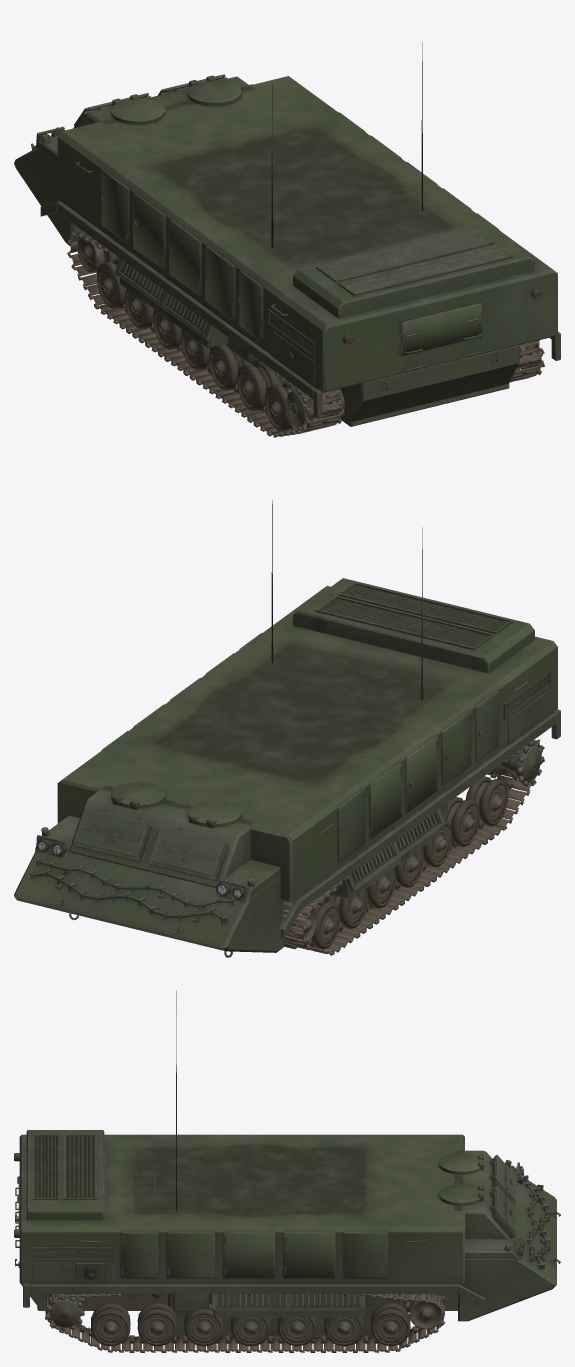
Rendered from torm2_lo.glb.
3 views of the same model, one above another, from view 1: azimuth 30°, elevation 25°; view 2: azimuth 150°, elevation 25°; view 3: azimuth 270°, elevation 25° (orthographic). The views are drawn at different scales.
Parts seen in each view (by area): view 1: body|TM_H, body|TM_R, turret|TM_T; view 2: body|TM_H, body|TM_R, turret|TM_T, sh0|TM_H, sh1|TM_H; view 3: body|TM_H, body|TM_R, turret|TM_T, sh0|TM_H, sh1|TM_H.
Part boxes in pixels (left/top/right/bottom): body|TM_H: left=14, top=75, right=560, bottom=426; body|TM_R: left=67, top=231, right=544, bottom=437; turret|TM_T: left=115, top=42, right=423, bottom=385; body|TM_H: left=14, top=578, right=560, bottom=957; body|TM_R: left=283, top=739, right=544, bottom=955; turret|TM_T: left=271, top=500, right=447, bottom=949; sh0|TM_H: left=150, top=826, right=225, bottom=875; sh1|TM_H: left=74, top=807, right=148, bottom=856; body|TM_H: left=14, top=1130, right=560, bottom=1321; body|TM_R: left=45, top=1294, right=445, bottom=1352; turret|TM_T: left=168, top=990, right=402, bottom=1338; sh0|TM_H: left=494, top=1155, right=515, bottom=1201; sh1|TM_H: left=494, top=1186, right=515, bottom=1232.
Size of the model in its own units: 3.46 by 4.51 by 7.73.
11 materials, 7 textured.
